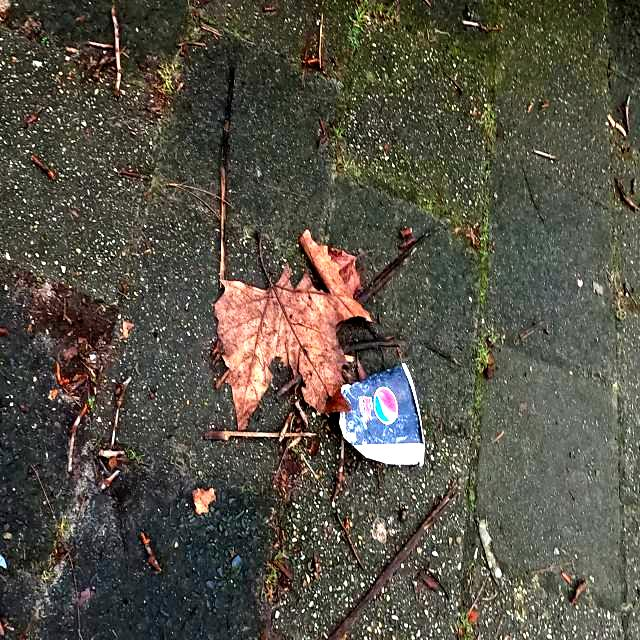Coffee Cup: (338, 362, 426, 468)
